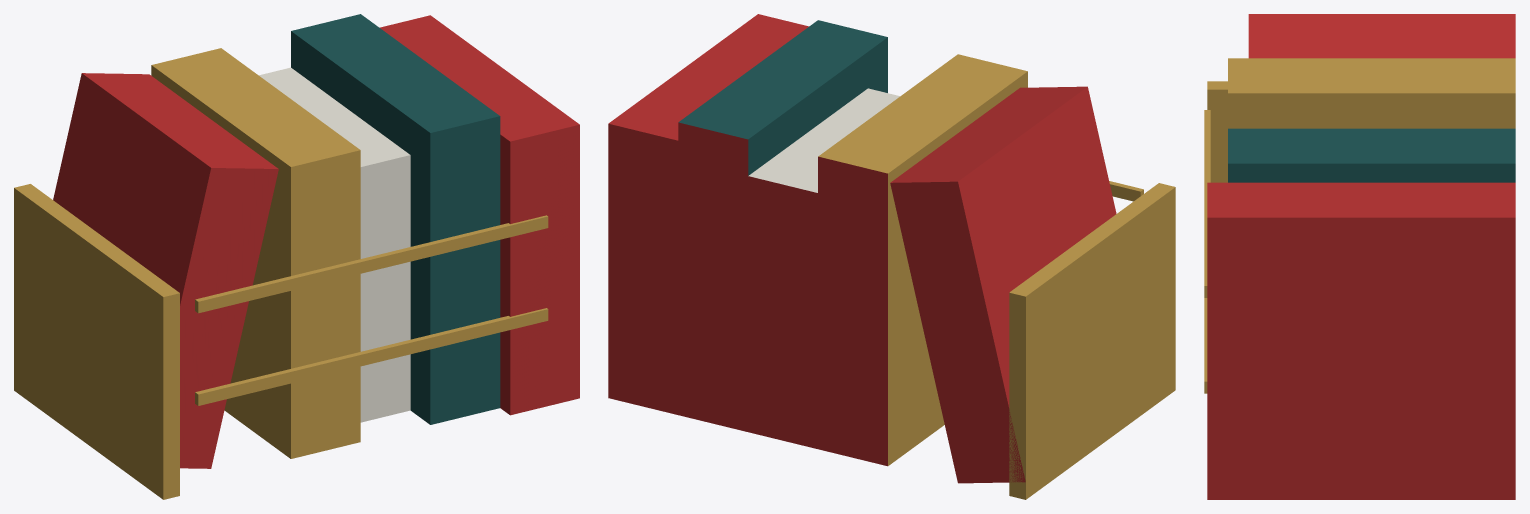
File: books.glb
3 views of the same model, side by side, from view 1: azimuth 30°, elevation 25°; view 2: azimuth 150°, elevation 25°; view 3: azimuth 270°, elevation 25° (orthographic). The views are drawn at different scales.
Visible parts, largest first — view 1: books(Clone); view 2: books(Clone); view 3: books(Clone).
Boxes of the visible parts, x1,y1,x2,y2 form: books(Clone): (14,14,579,499); books(Clone): (608,14,1175,499); books(Clone): (1204,14,1515,499).
Bounding box in the file's own units: 0.1504 × 0.1039 × 0.0945.
